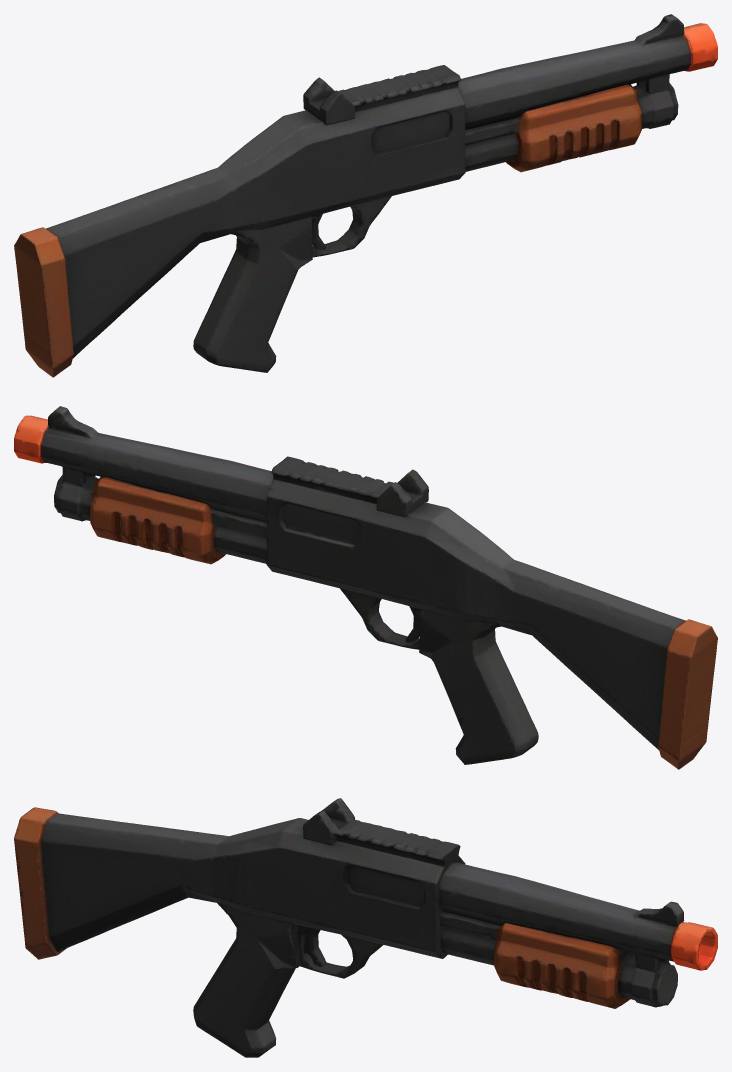
File: arma_espingarda.glb
3 views of the same model, one above another, from view 1: azimuth 30°, elevation 25°; view 2: azimuth 150°, elevation 25°; view 3: azimuth 330°, elevation 25° (orthographic).
Parts seen in each view (by area): view 1: tripo_node_1f174edd-da46-4686-8a34-7cac62f8fbdf; view 2: tripo_node_1f174edd-da46-4686-8a34-7cac62f8fbdf; view 3: tripo_node_1f174edd-da46-4686-8a34-7cac62f8fbdf.
Part boxes in pixels (x1,y1,x2,y2): tripo_node_1f174edd-da46-4686-8a34-7cac62f8fbdf: (14,14,717,377); tripo_node_1f174edd-da46-4686-8a34-7cac62f8fbdf: (14,406,717,769); tripo_node_1f174edd-da46-4686-8a34-7cac62f8fbdf: (14,798,717,1057).
Size of the model in its own units: 1 by 0.3709 by 0.0867.
1 material, 1 textured.
